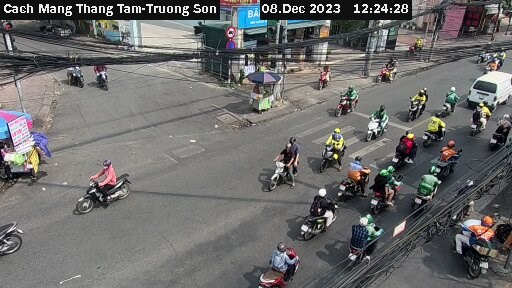car: (466, 70, 512, 111)
motorbike: (75, 153, 138, 211), (446, 207, 498, 270), (250, 236, 308, 285), (296, 184, 336, 239), (340, 215, 385, 260), (411, 167, 454, 213), (367, 165, 403, 213), (264, 143, 303, 187), (1, 215, 35, 265), (56, 48, 88, 96), (317, 129, 351, 171), (87, 59, 124, 97), (390, 128, 422, 167), (365, 110, 396, 145), (341, 160, 369, 195), (421, 113, 452, 143), (334, 87, 363, 118), (404, 87, 429, 120), (375, 54, 400, 86), (494, 109, 512, 151), (465, 98, 487, 131), (309, 65, 336, 89), (437, 87, 460, 113)
